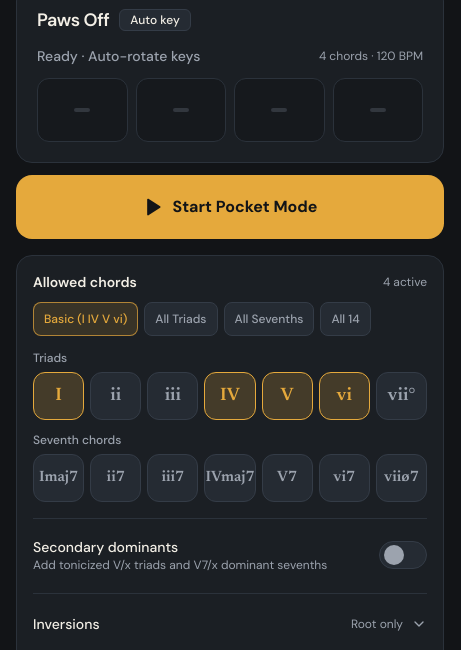
Test: Paws Off App UI › supports Scale degree and Solfege inversion display and voice styles with live preview and persistence
This screenshot has width=461, height=650.
Click the button "Inversions Root only". click: (66, 624)
box: 33,602 -> 427,646
(page scrolled)
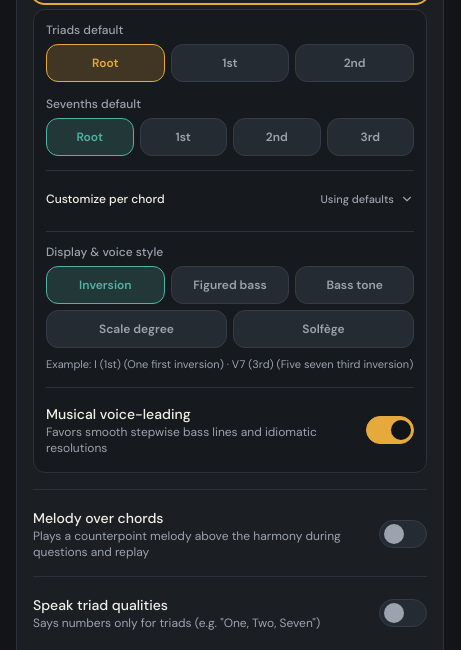
Click the button "Scale degree". click: (136, 329)
box: 46,310 -> 227,348
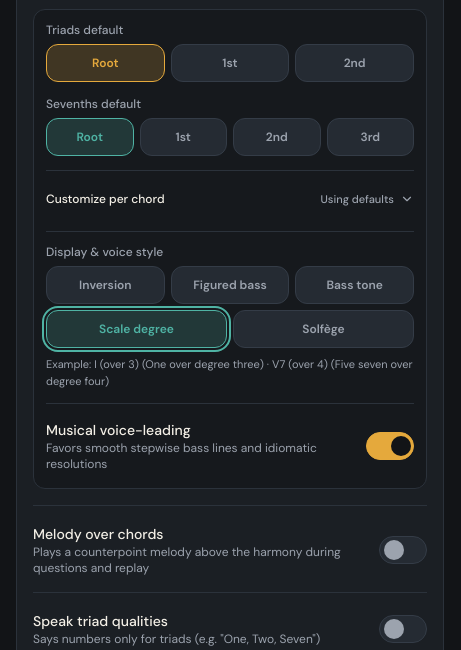
Check: the text "Example: I (over 3) (One over degree three) · V7 (over 4) (Five seven over degree four)" is shown, box 46,356 -> 414,389
Click the button "Solfège". click: (324, 329)
box: 233,310 -> 414,348
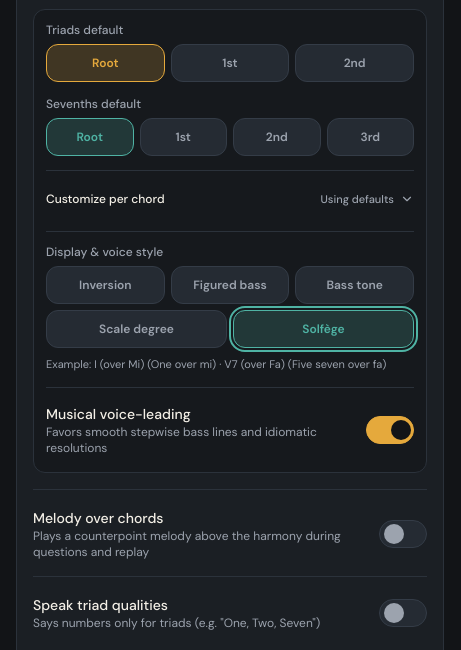
Check: the text "Example: I (over Mi) (One over mi) · V7 (over Fa) (Five seven over fa)" is shown, box 46,356 -> 414,372
